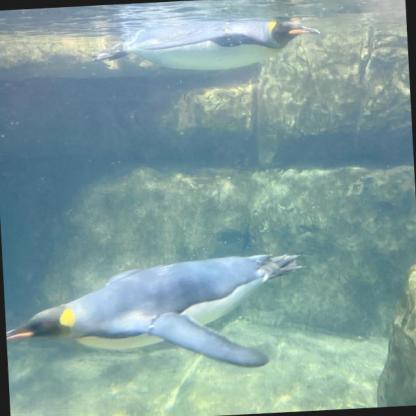penguin: (3, 252, 312, 380), (90, 16, 322, 78)
